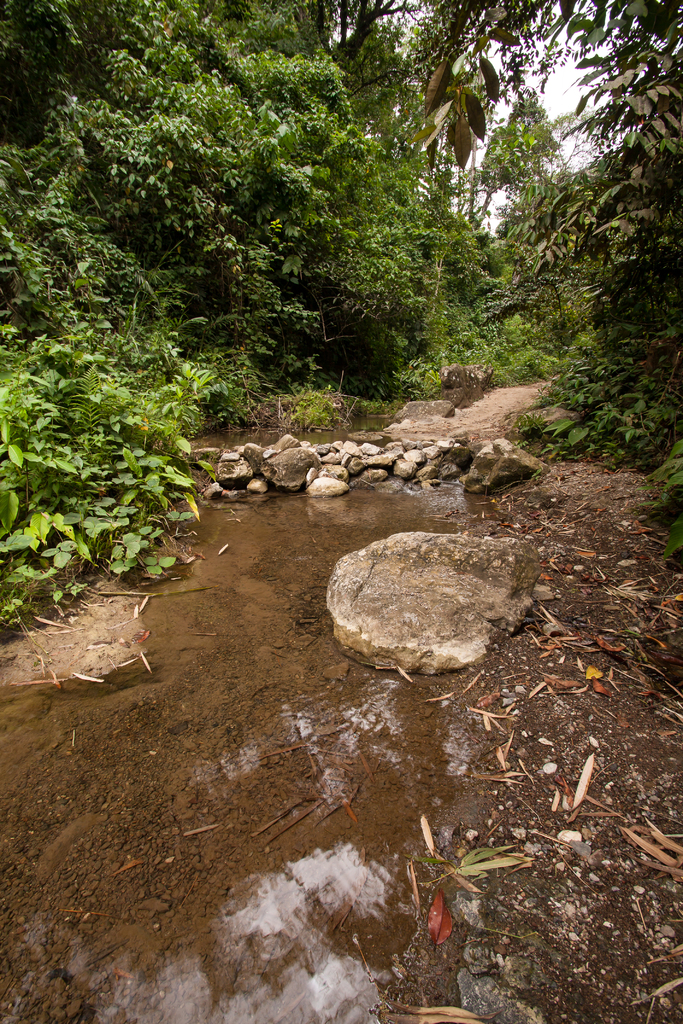Tree: (0, 0, 682, 392)
